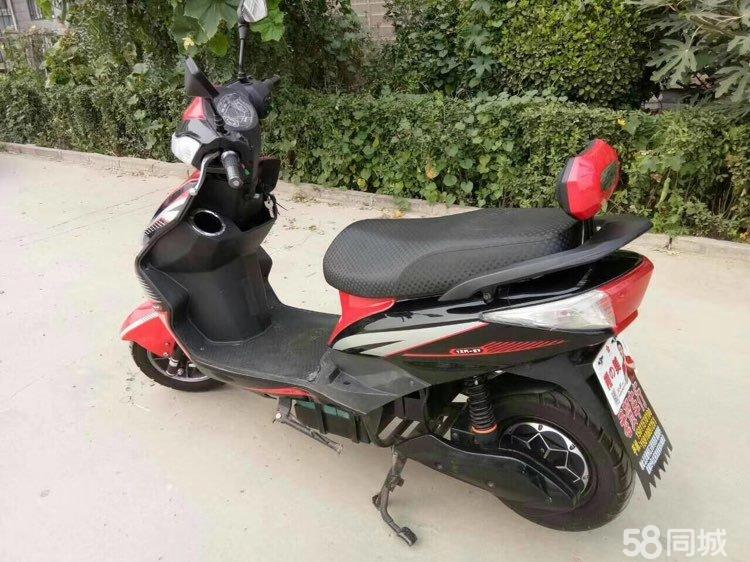电动车: (120, 1, 685, 552)
